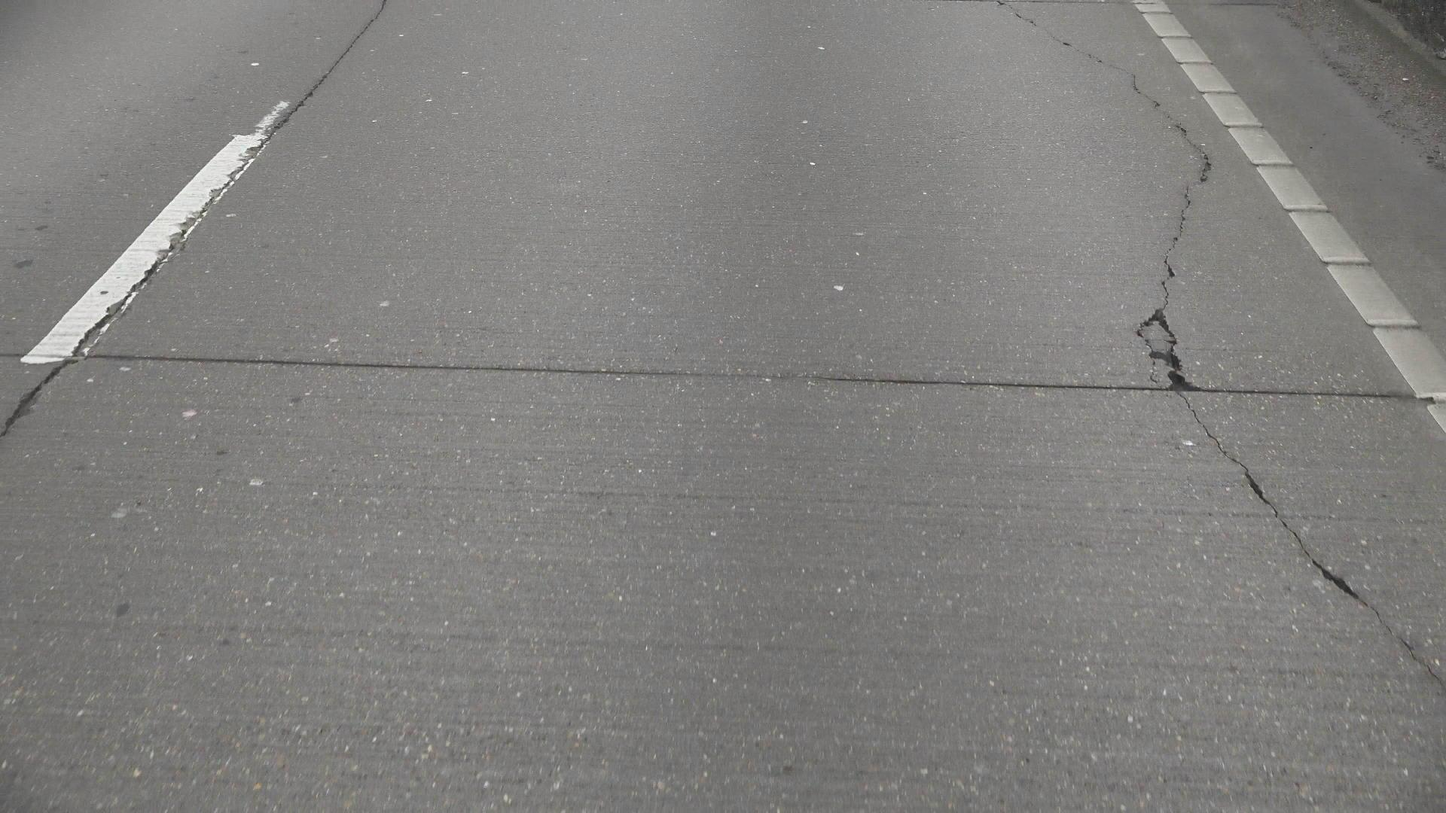GRIETA: (71, 0, 387, 356), (997, 1, 1212, 389), (1171, 388, 1445, 690), (90, 354, 1171, 393), (0, 361, 71, 437), (1191, 388, 1394, 399)
